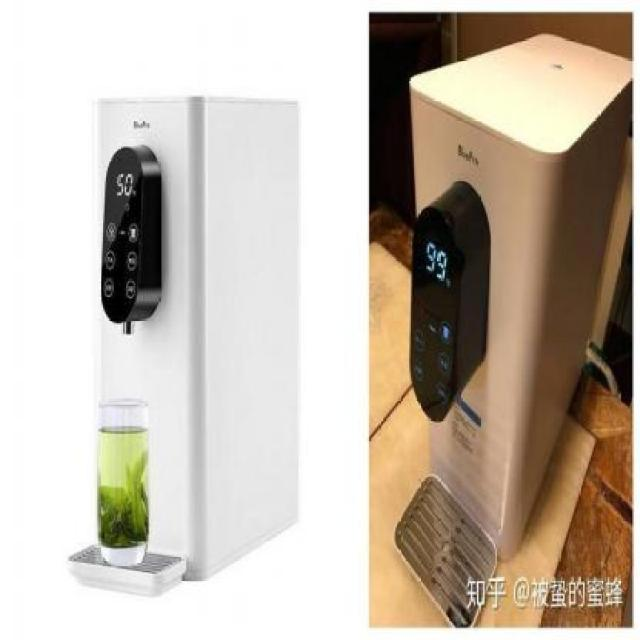cooler: (394, 34, 631, 626), (69, 90, 301, 594)
